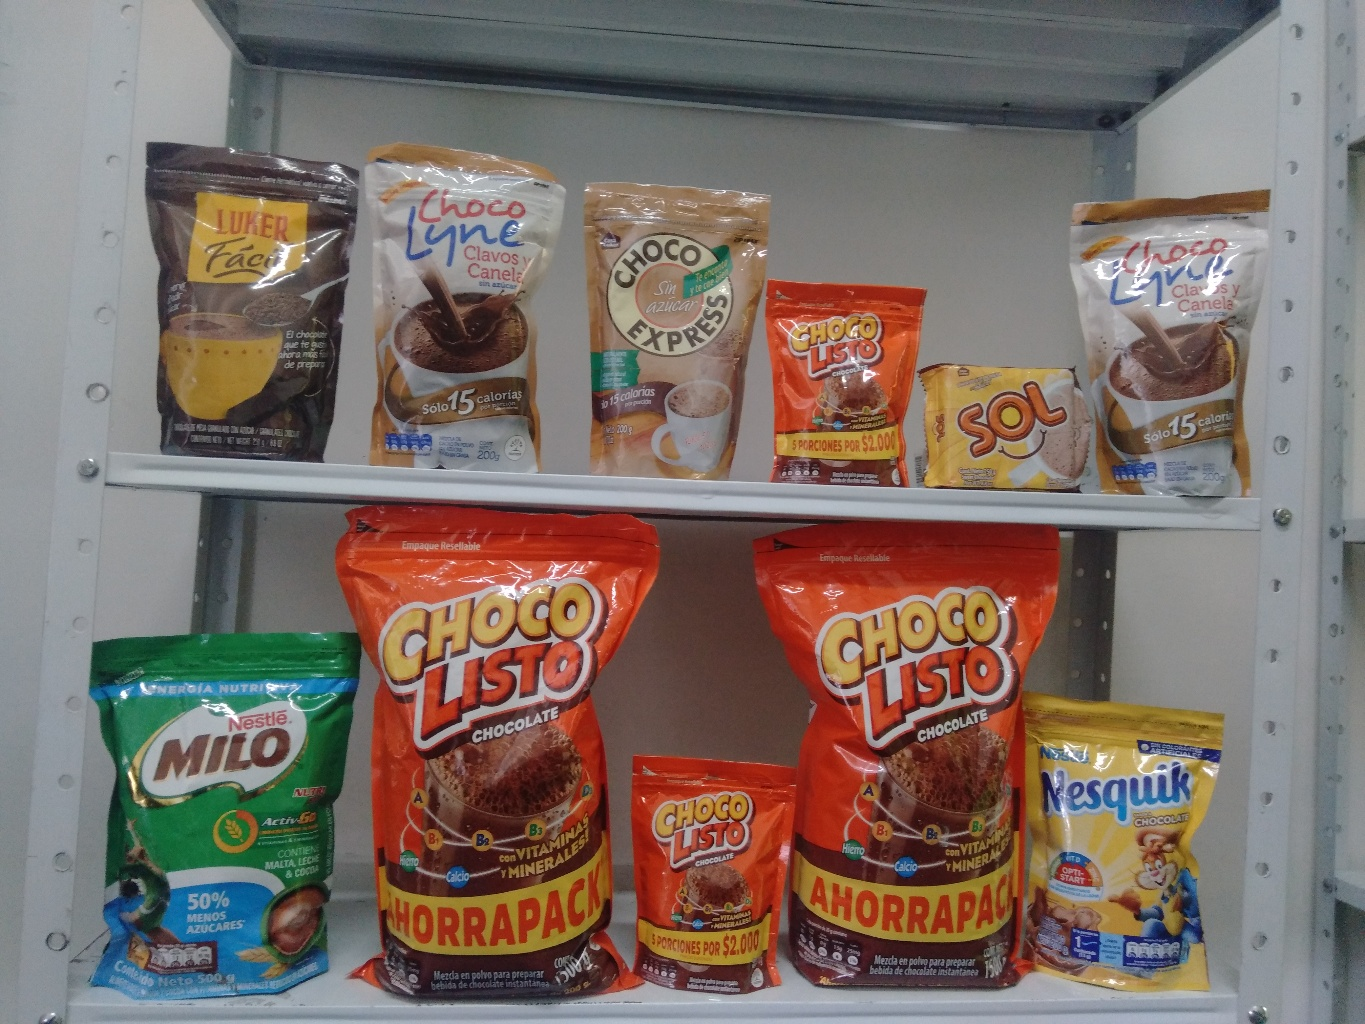COL0170103DYP1,500: (341, 503, 668, 999)
COL0170205DYP50000: (55, 632, 346, 1002)
COL0170303DYP20000: (1001, 674, 1257, 997)
